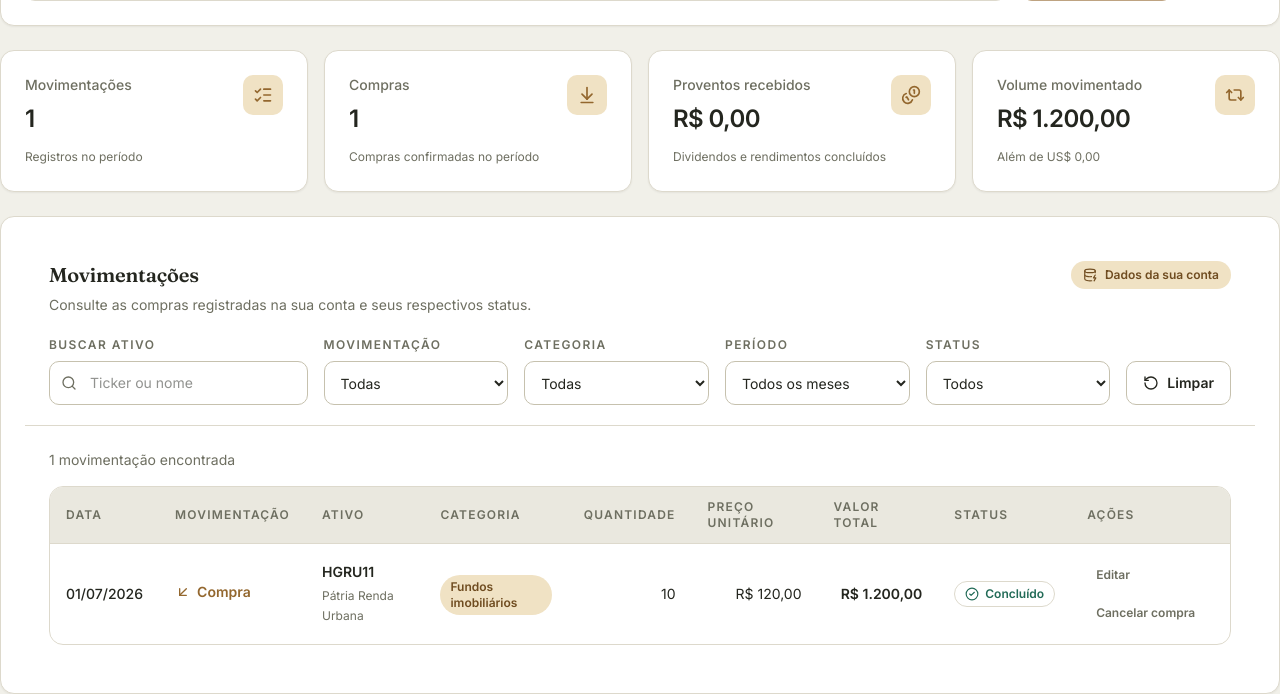
Test: HistoryPage — cancelamento de compra › mostra a mensagem de erro do repositório quando o cancelamento falha
(page scrolled)
Click the button "Cancelar compra" at (1146, 613), box [1087,598,1204,628]
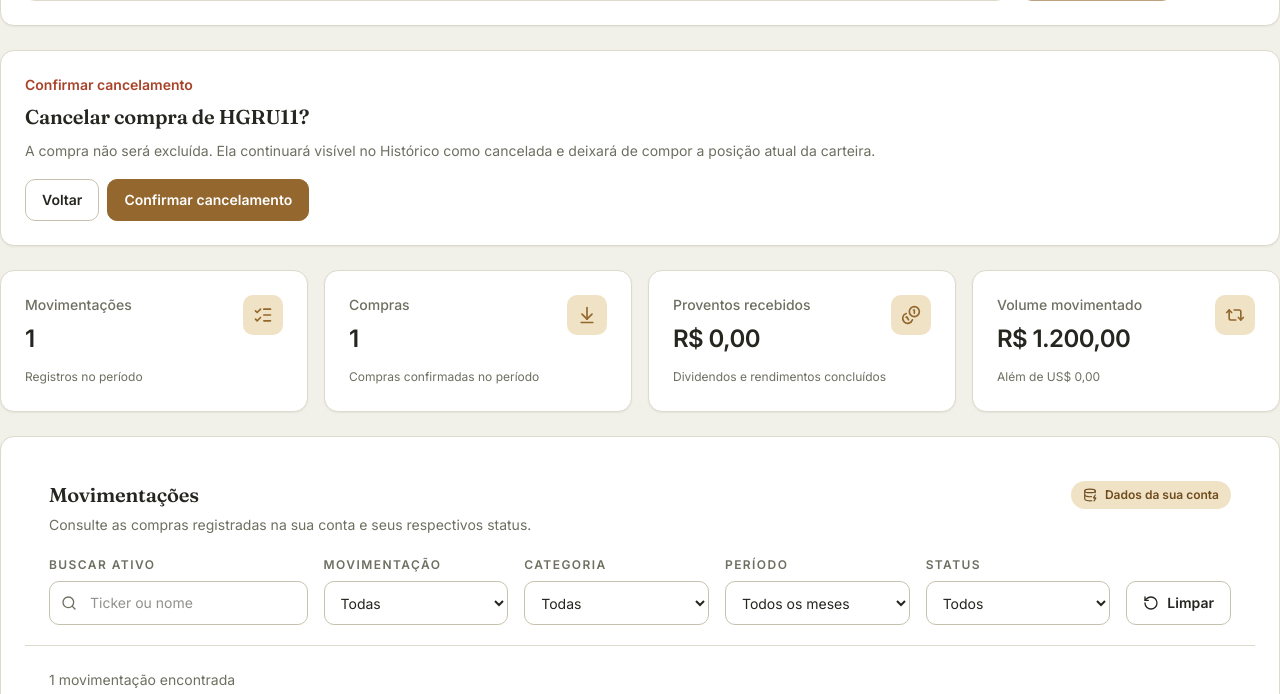
Click the button "Confirmar cancelamento" at (208, 200), box [107,179,309,221]
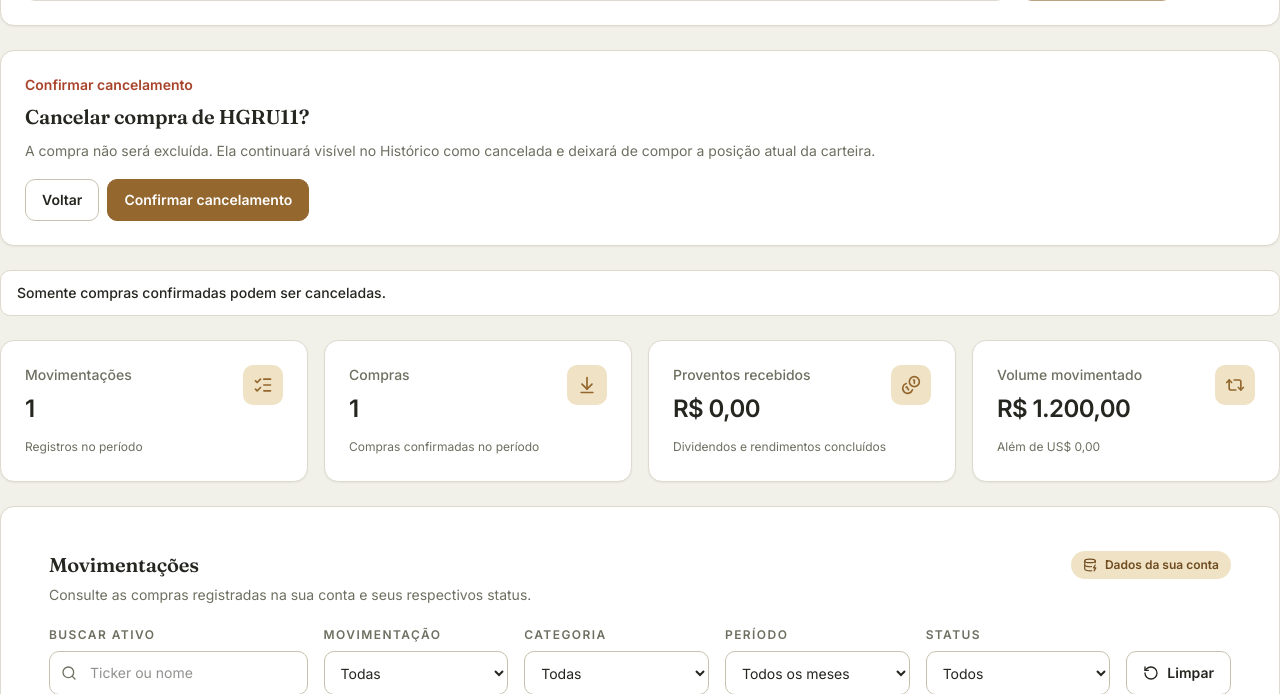
Result: the dialog is shown at [0,50,1279,246]
Result: the text "Somente compras confirmadas podem ser canceladas." is shown at [0,270,1279,316]
